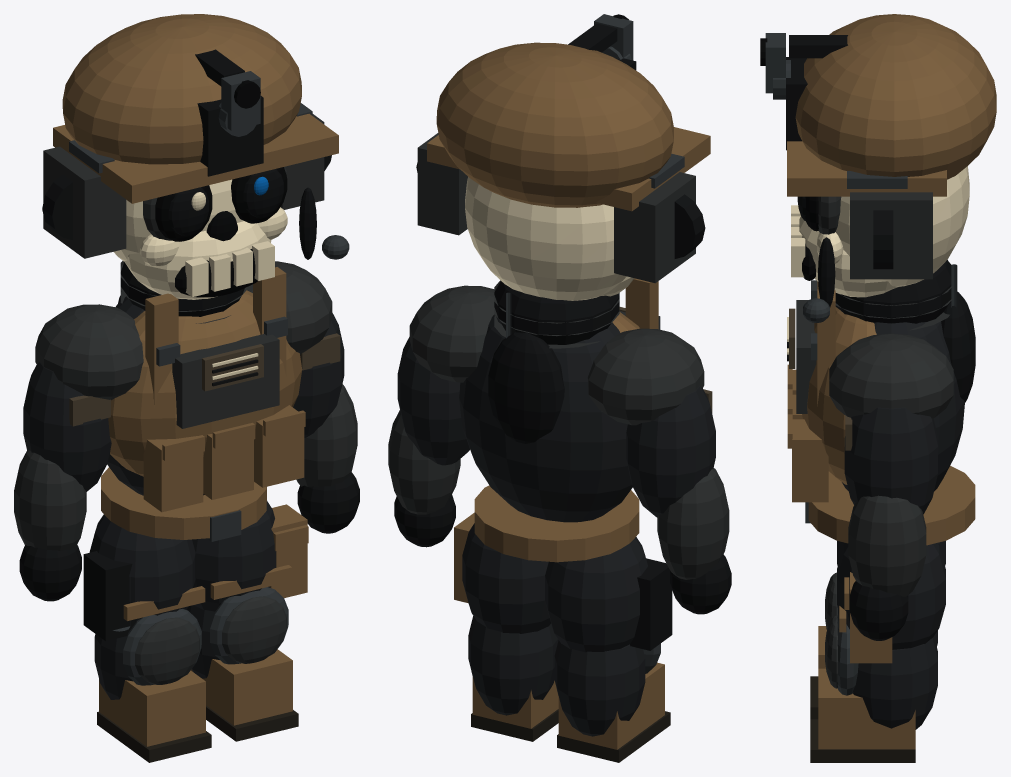
The model's file is SkullOperator_Mesh.obj.
3 renders of one model, left to right at view 1: azimuth 30°, elevation 25°; view 2: azimuth 150°, elevation 25°; view 3: azimuth 270°, elevation 25°, orthographic.
Parts seen in each view (by area): view 1: Helmet, Shoulder_Pad, Boot_Upper, Thigh, Plate_Carrier, Forearm_Guard, Sleeve, Magazine_Pouch, Helmet_Rim, Headset, Knee_Pad, Front_Plate (+32 smaller); view 2: Helmet, Torso, Thigh, Shoulder_Pad, Sleeve, Skull, Shin, Forearm_Guard, Headset, Belt, Back_Radio, Gaiter (+11 smaller); view 3: Helmet, Shoulder_Pad, Sleeve, Forearm_Guard, Headset, Shin, Belt, Boot_Upper, Thigh, Gaiter, Plate_Carrier, Helmet_Rim (+25 smaller).
Boxes of the visible parts, <box> form: Helmet: <box>62,14,301,164</box>; Shoulder_Pad: <box>35,261,332,400</box>; Boot_Upper: <box>99,649,292,746</box>; Thigh: <box>89,501,276,622</box>; Plate_Carrier: <box>108,290,302,476</box>; Forearm_Guard: <box>14,384,357,550</box>; Sleeve: <box>23,313,344,491</box>; Magazine_Pouch: <box>143,405,304,512</box>; Helmet_Rim: <box>53,113,338,203</box>; Headset: <box>43,114,324,258</box>; Knee_Pad: <box>135,596,286,684</box>; Front_Plate: <box>172,334,279,428</box>; Helmet: <box>436,42,673,207</box>; Torso: <box>459,315,632,522</box>; Thigh: <box>462,523,647,652</box>; Shoulder_Pad: <box>409,285,704,425</box>; Sleeve: <box>397,337,715,517</box>; Skull: <box>465,177,626,300</box>; Shin: <box>468,616,645,736</box>; Forearm_Guard: <box>388,410,729,579</box>; Headset: <box>417,133,695,283</box>; Belt: <box>474,485,639,562</box>; Back_Radio: <box>488,332,564,443</box>; Gaiter: <box>494,281,619,344</box>; Helmet: <box>795,14,996,179</box>; Shoulder_Pad: <box>829,333,953,418</box>; Sleeve: <box>844,407,937,514</box>; Forearm_Guard: <box>848,495,926,596</box>; Headset: <box>850,192,932,279</box>; Shin: <box>852,630,937,729</box>; Belt: <box>808,465,975,545</box>; Boot_Upper: <box>818,626,915,749</box>; Thigh: <box>837,541,945,649</box>; Gaiter: <box>835,260,951,323</box>; Plate_Carrier: <box>802,307,876,484</box>; Helmet_Rim: <box>787,141,946,196</box>.
Size of the model in its own units: 1.92 by 3.78 by 1.17.
